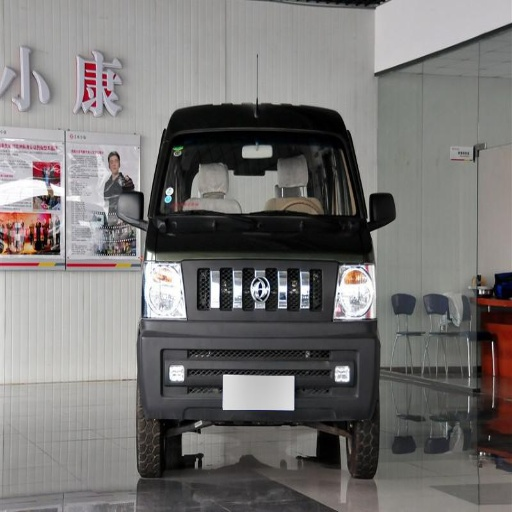back_glass: (163, 133, 327, 211)
front_bumper: (146, 320, 375, 426)
front_right_light: (145, 257, 183, 315)
hood: (316, 230, 367, 261)
tailgate: (237, 265, 331, 334)
trunk: (176, 217, 331, 283)
